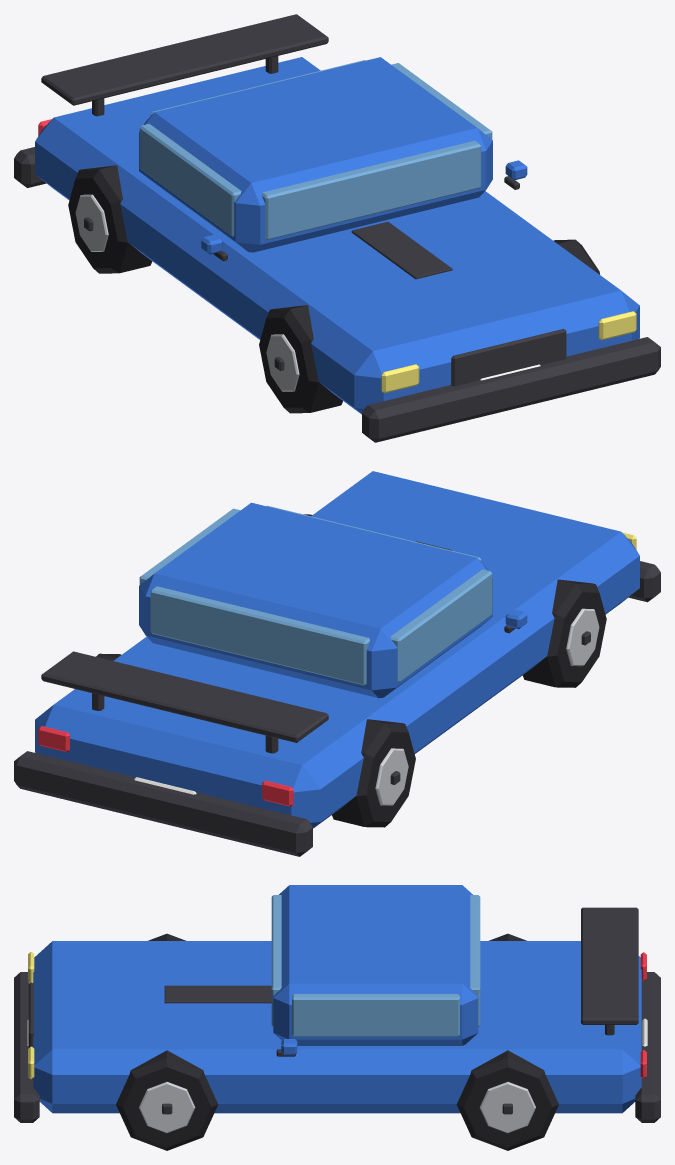
File: BlueSportsCar.fbx
The picture shows the model from 3 angles, top to bottom: view 1: azimuth 30°, elevation 25°; view 2: azimuth 150°, elevation 25°; view 3: azimuth 270°, elevation 25°; orthographic projection. The views are drawn at different scales.
Parts seen in each view (by area): view 1: BlueSportsCar, BlueSportsCar_WheelBR, BlueSportsCar_WheelFR; view 2: BlueSportsCar, BlueSportsCar_WheelBR, BlueSportsCar_WheelFR; view 3: BlueSportsCar, BlueSportsCar_WheelBL, BlueSportsCar_WheelFL.
Boxes of the visible parts, x1,y1,x2,y2 form: BlueSportsCar: [14, 14, 660, 442]; BlueSportsCar_WheelBR: [68, 165, 152, 273]; BlueSportsCar_WheelFR: [259, 305, 342, 413]; BlueSportsCar: [14, 471, 660, 856]; BlueSportsCar_WheelBR: [332, 719, 415, 827]; BlueSportsCar_WheelFR: [522, 579, 606, 687]; BlueSportsCar: [14, 885, 660, 1122]; BlueSportsCar_WheelBL: [456, 1050, 558, 1150]; BlueSportsCar_WheelFL: [116, 1050, 218, 1150].
Size of the model in its own units: 5.15 by 2.66 by 10.1.
1 material, 1 textured.
